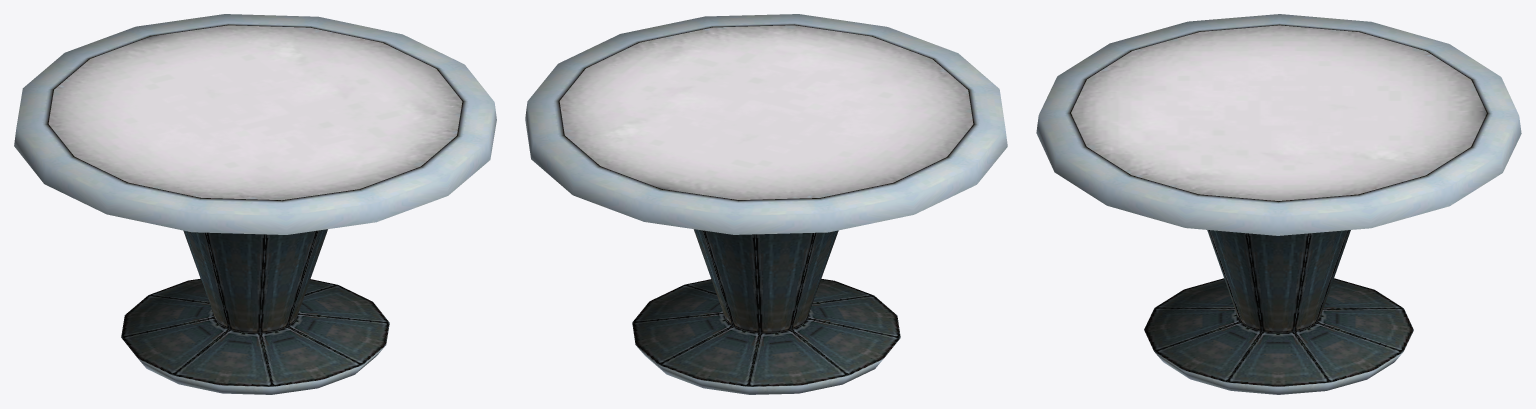
Rendered from thm_frn_table_s03_l1.fbx.
3 views of the same model, side by side, from view 1: azimuth 30°, elevation 25°; view 2: azimuth 150°, elevation 25°; view 3: azimuth 270°, elevation 25° (orthographic).
Visible parts, largest first — view 1: mesh_node; view 2: mesh_node; view 3: mesh_node.
Part boxes in pixels (x1,y1,x2,y2): mesh_node: (14, 14, 496, 394); mesh_node: (525, 14, 1007, 394); mesh_node: (1036, 14, 1521, 394).
Bounding box in the file's own units: 1.44 × 0.7503 × 1.44.
1 material, 1 textured.
